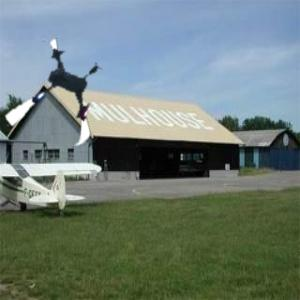drone: (3, 41, 119, 157)
